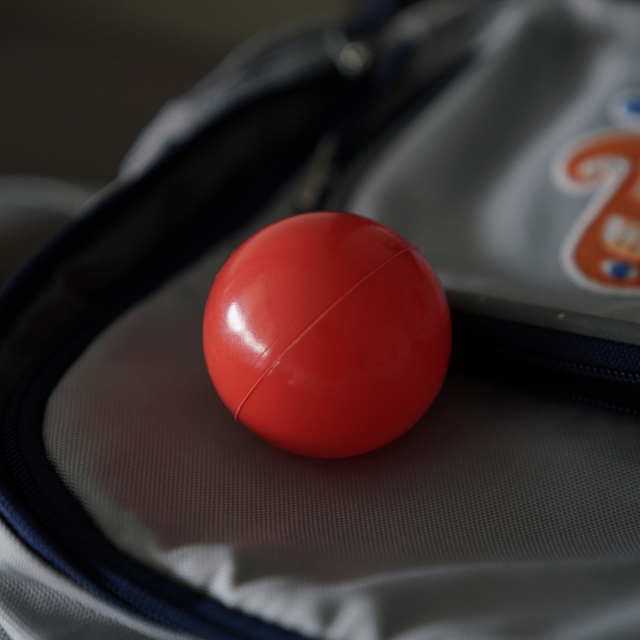Ball: (205, 213, 455, 457)
